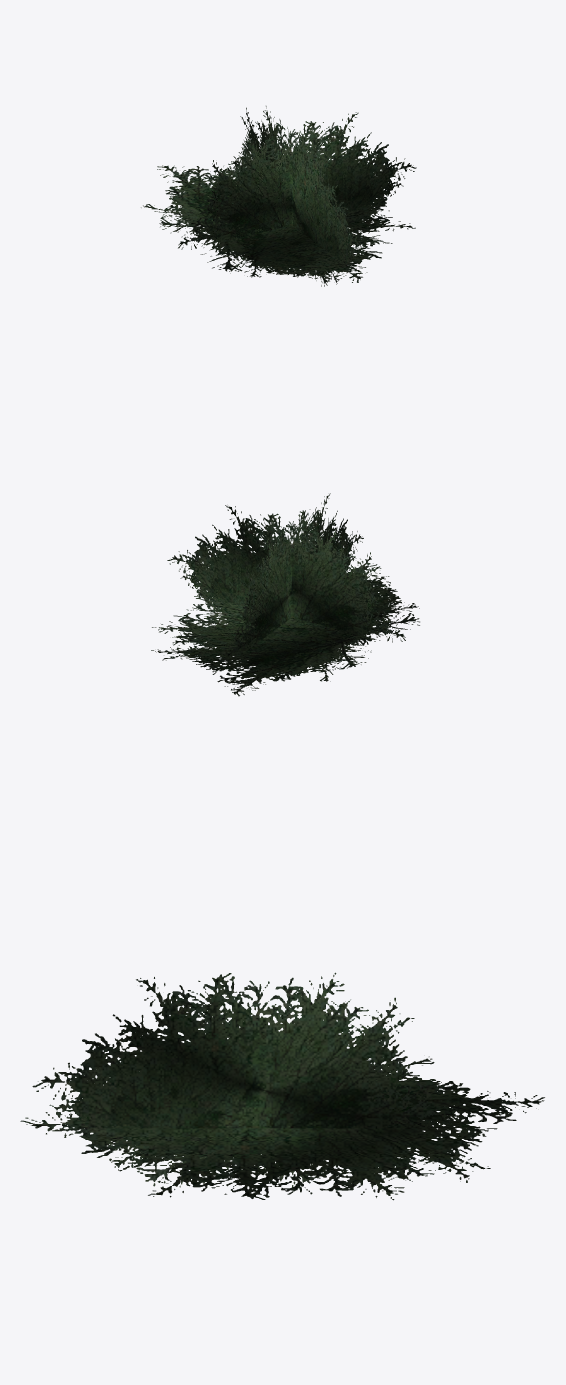
File: shrb_pinebush_lg_l1.fbx
3 views of the same model, one above another, from view 1: azimuth 30°, elevation 25°; view 2: azimuth 150°, elevation 25°; view 3: azimuth 270°, elevation 25° (orthographic). The views are drawn at different scales.
Visible parts, largest first — view 1: mesh_node; view 2: mesh_node; view 3: mesh_node.
Part boxes in pixels (x1,y1,x2,y2): mesh_node: (141,106,416,286); mesh_node: (151,493,419,696); mesh_node: (20,972,544,1200).
Bounding box in the file's own units: 6.85 × 4.61 × 5.68.
1 material, 1 textured.
